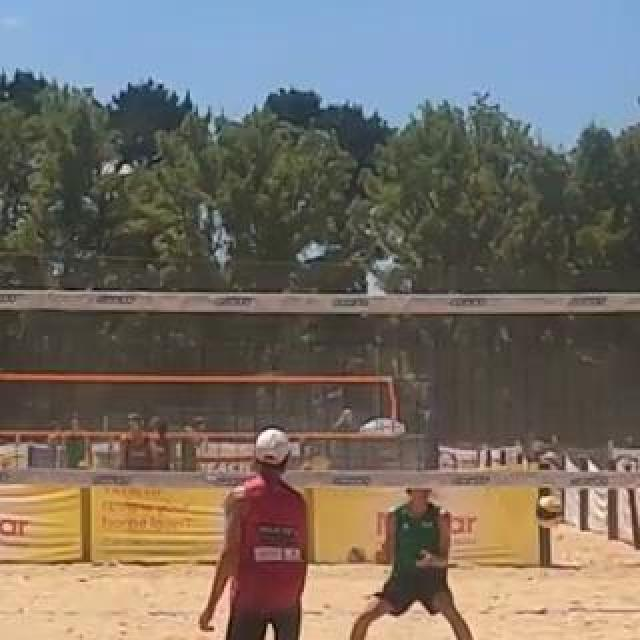volleyball: (535, 495, 565, 527)
